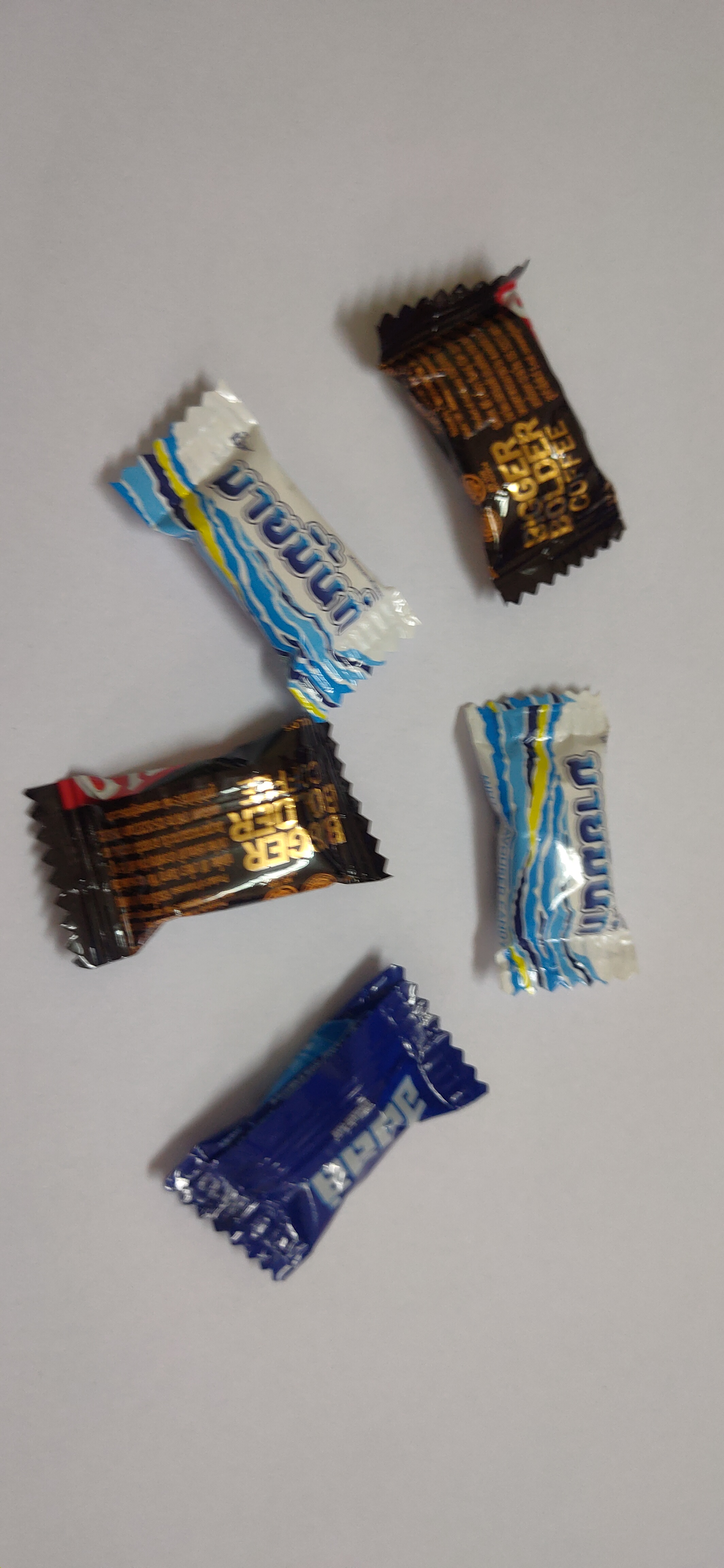plastic: (140, 927, 556, 1354), (91, 350, 450, 761), (6, 701, 439, 1005), (333, 233, 659, 631), (453, 650, 681, 1036)
